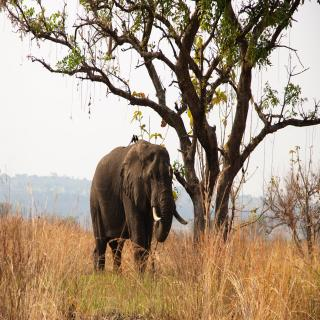Elephant: (88, 138, 191, 278)
